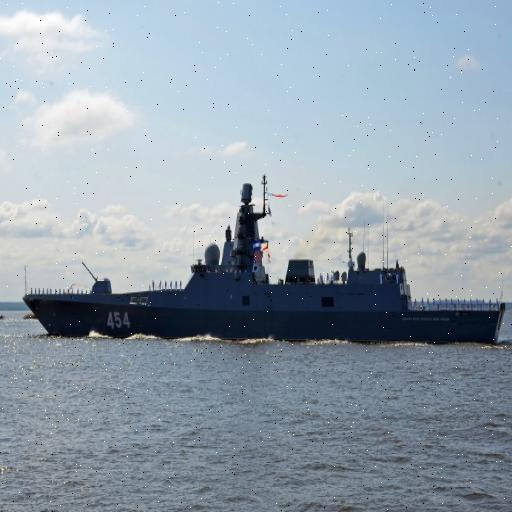Fragata: (23, 171, 509, 344)
